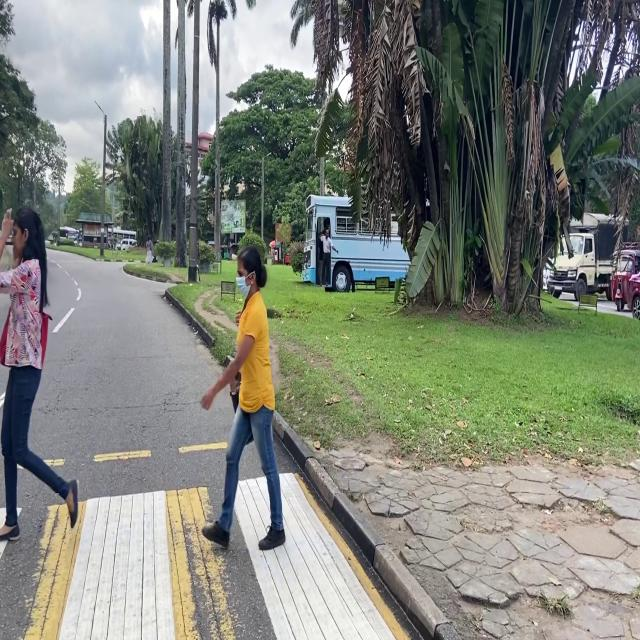bus: (302, 196, 409, 292), (113, 227, 136, 241)
car: (628, 272, 640, 319)
person: (0, 207, 78, 542), (201, 248, 285, 551), (320, 228, 338, 285), (146, 235, 153, 264)
three wheeler: (611, 248, 640, 311), (221, 246, 229, 260), (285, 251, 290, 264)
truck: (549, 213, 628, 301)
van: (117, 238, 136, 250)
